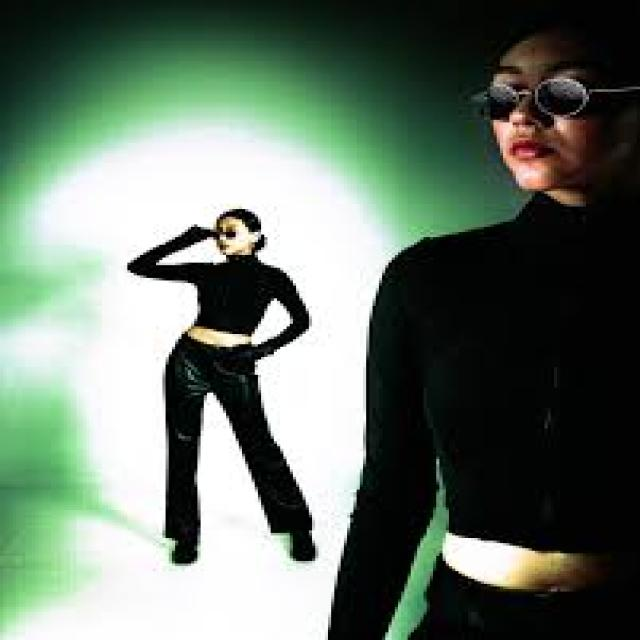Edited images: (293, 25, 640, 640)
